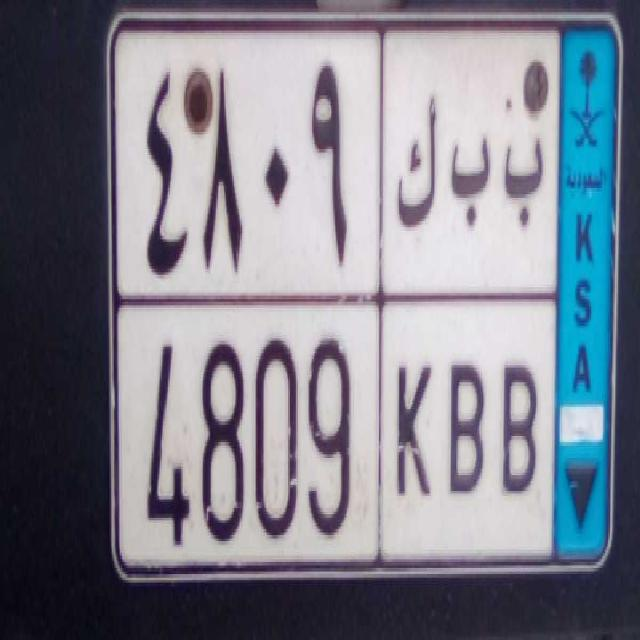license_plate: (110, 291, 556, 590)
